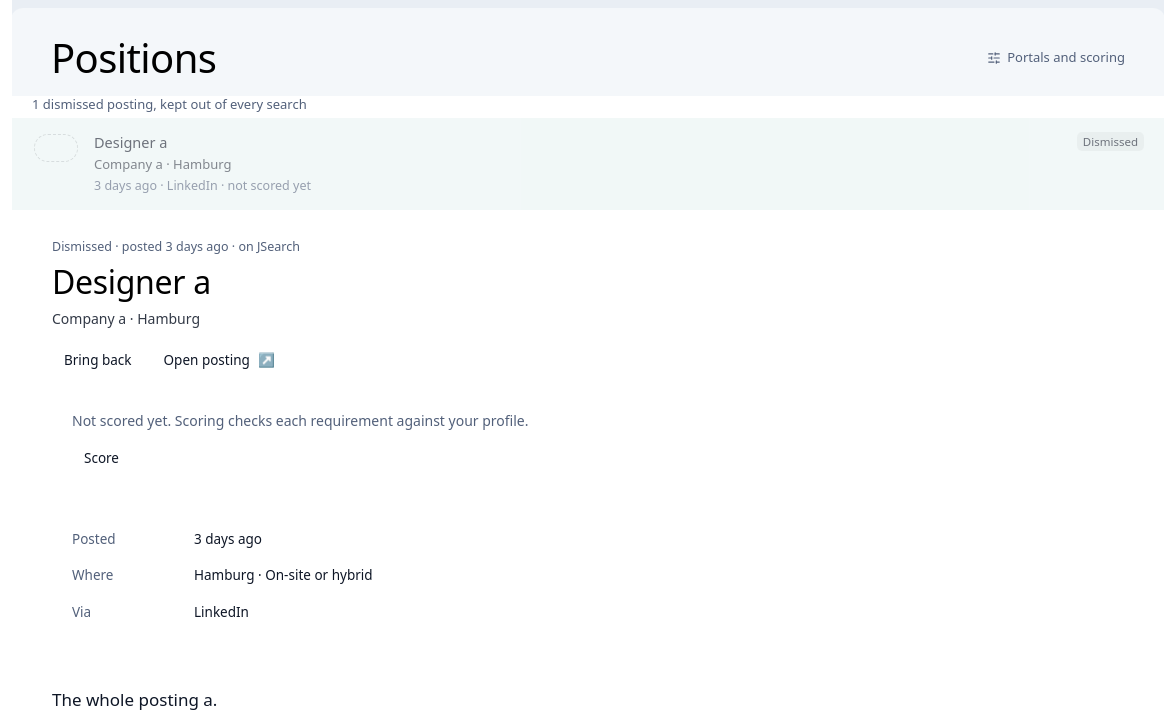
Test: the results › brings back a dismissed posting from Dismissed
The image size is (1176, 720).
(page scrolled)
Click the button "Bring back".
click(98, 360)  # box [52,345,144,375]
(page scrolled)
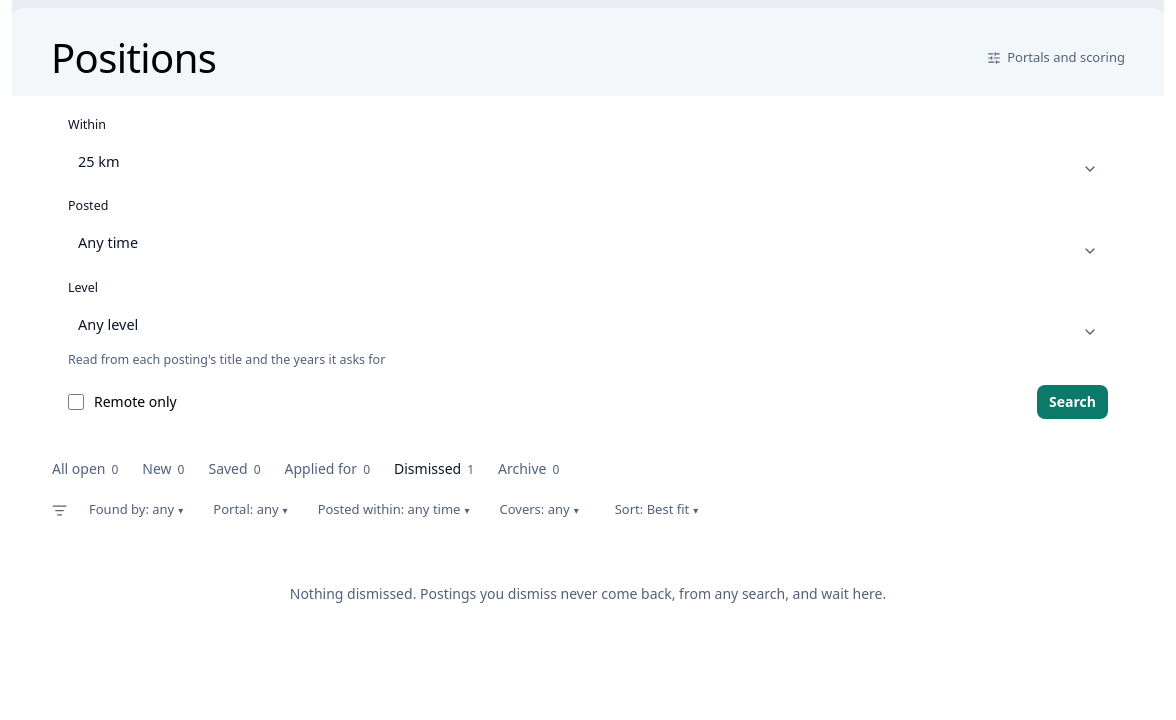
Result: the text "Nothing dismissed. Postings you dismiss never come back, from any search, and wait here." is shown at [290,584,886,603]
